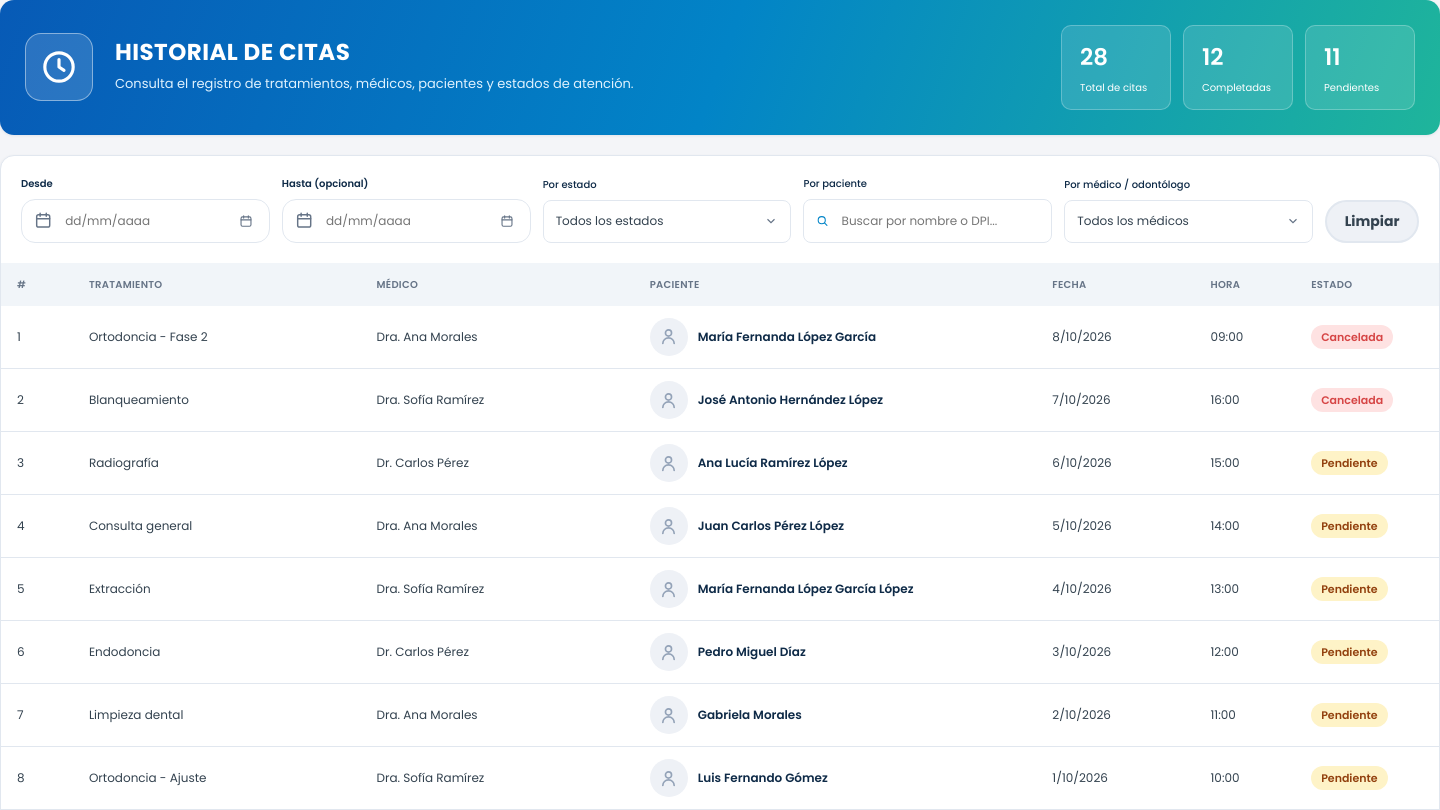
Scenario: agrega separadores al escribir o pegar en Hasta (opcional) sin cambiar el diseño
This screenshot has width=1440, height=810.
Type "31082026" into the field labelled "Hasta (opcional)" at [371, 220], box [326,200,416,242]
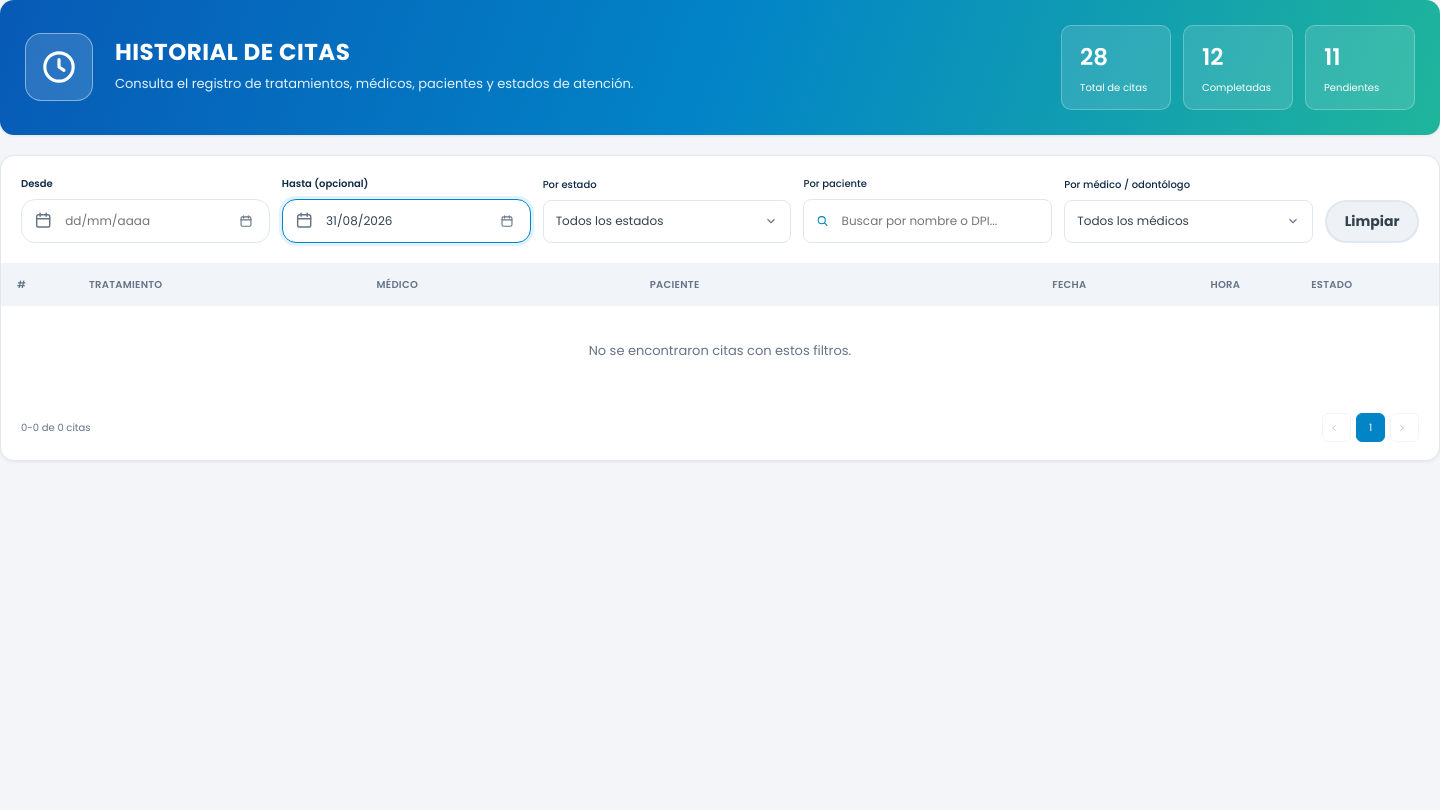
Expected: the field labelled "Hasta (opcional)" holds "31/08/2026", [326,200,416,242]
Press Backspace
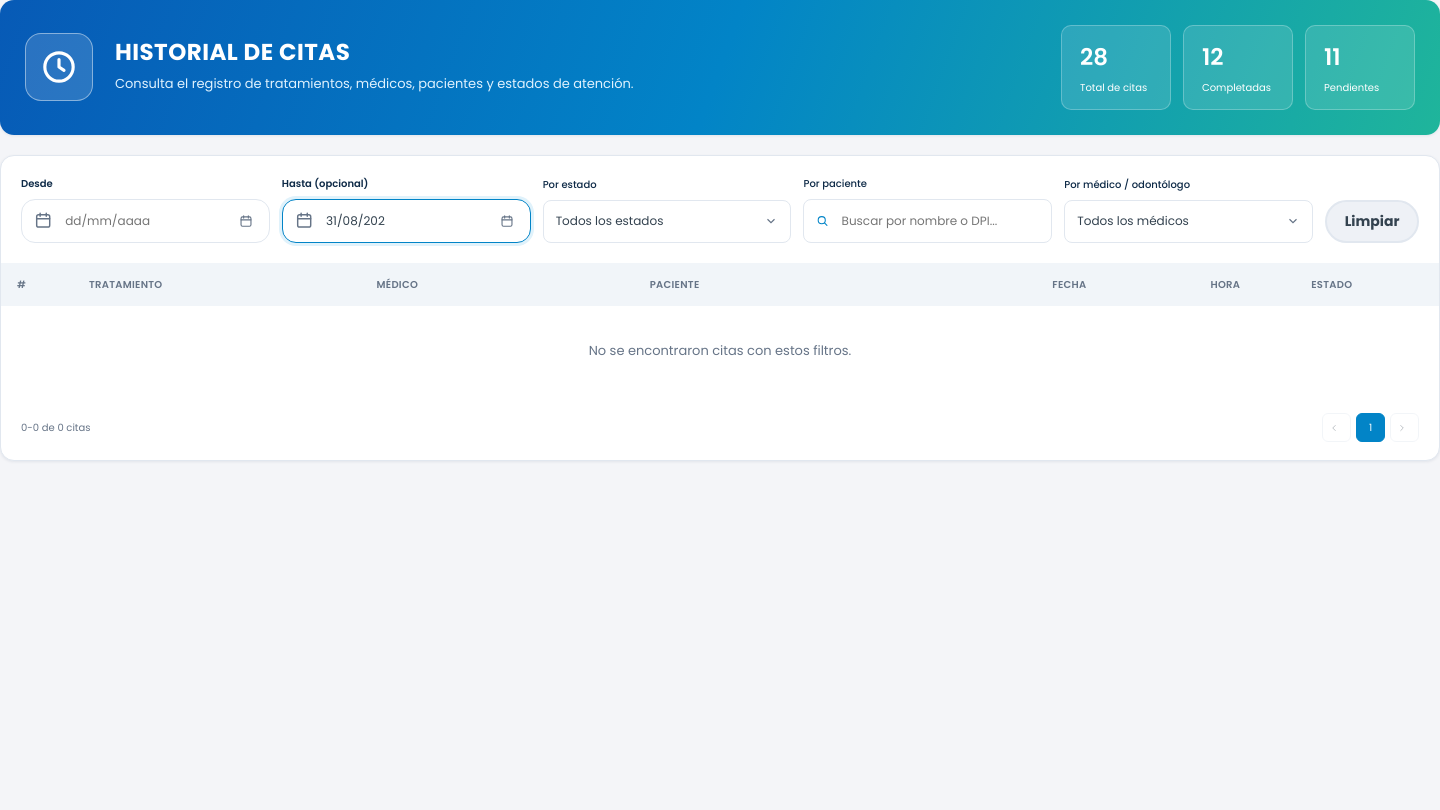
Expected: the field labelled "Hasta (opcional)" holds "31/08/202", [326,200,416,242]
Type keys "6"
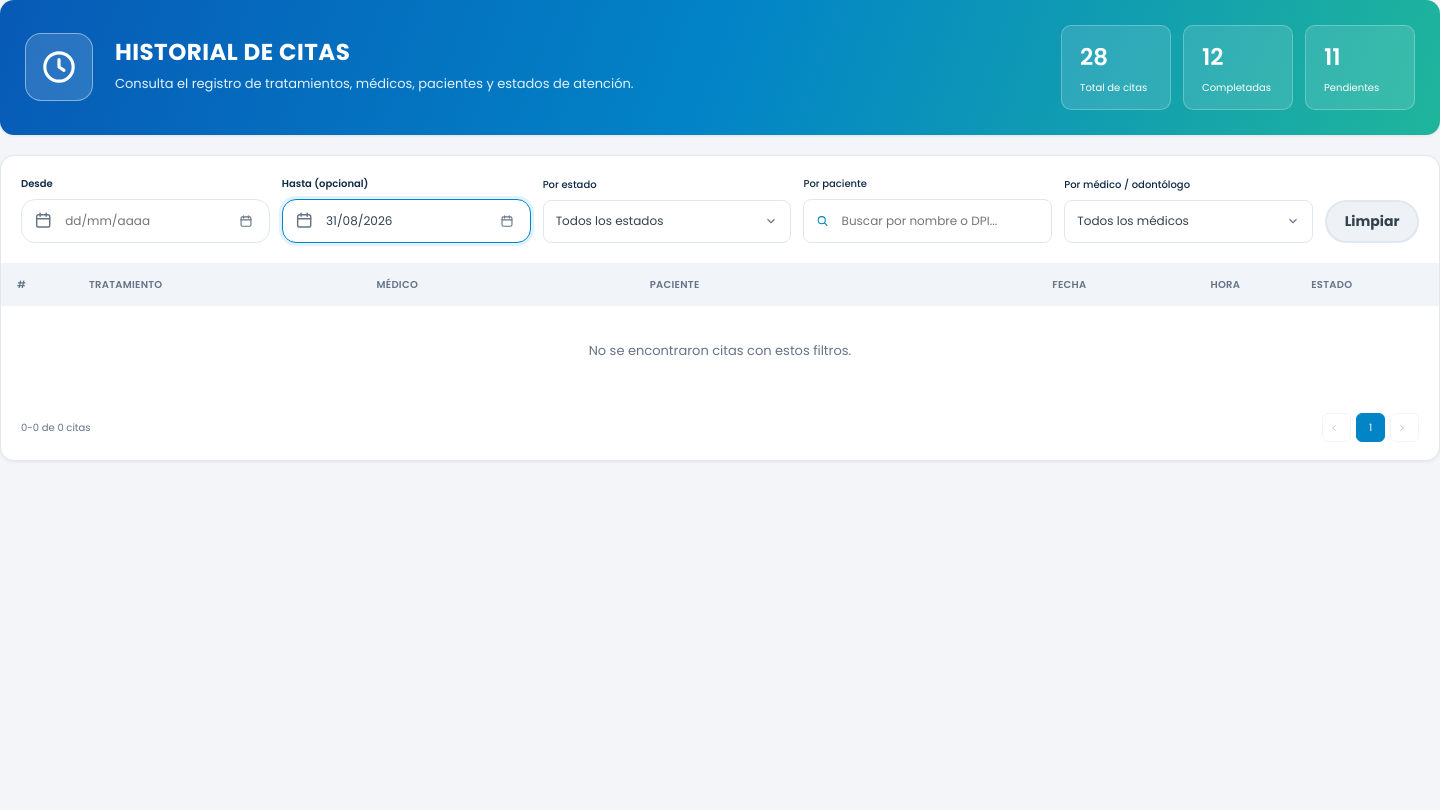
Expected: the field labelled "Hasta (opcional)" holds "31/08/2026"
Clear the field labelled "Hasta (opcional)" at [371, 220], box [326,200,416,242]
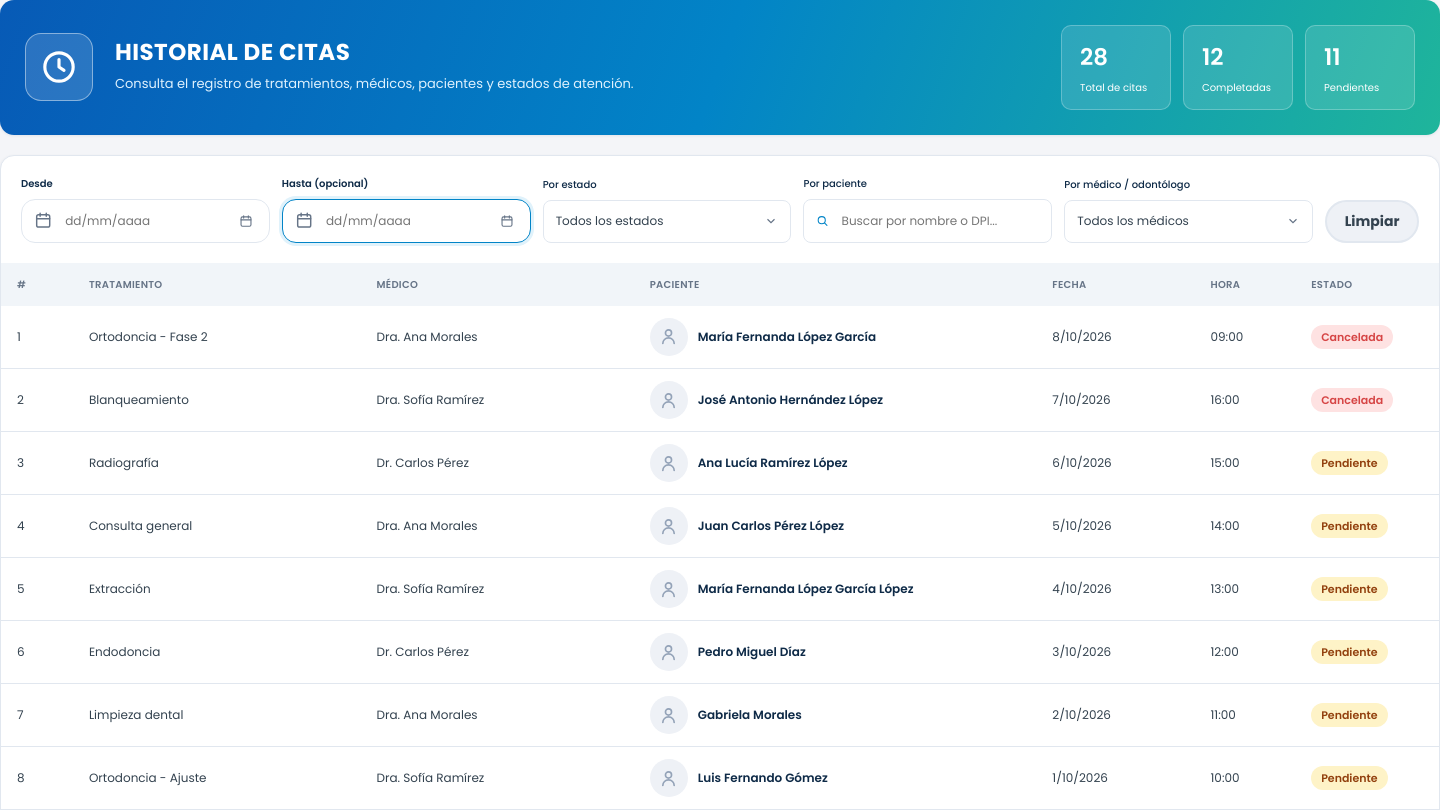
Type keys "12082026"
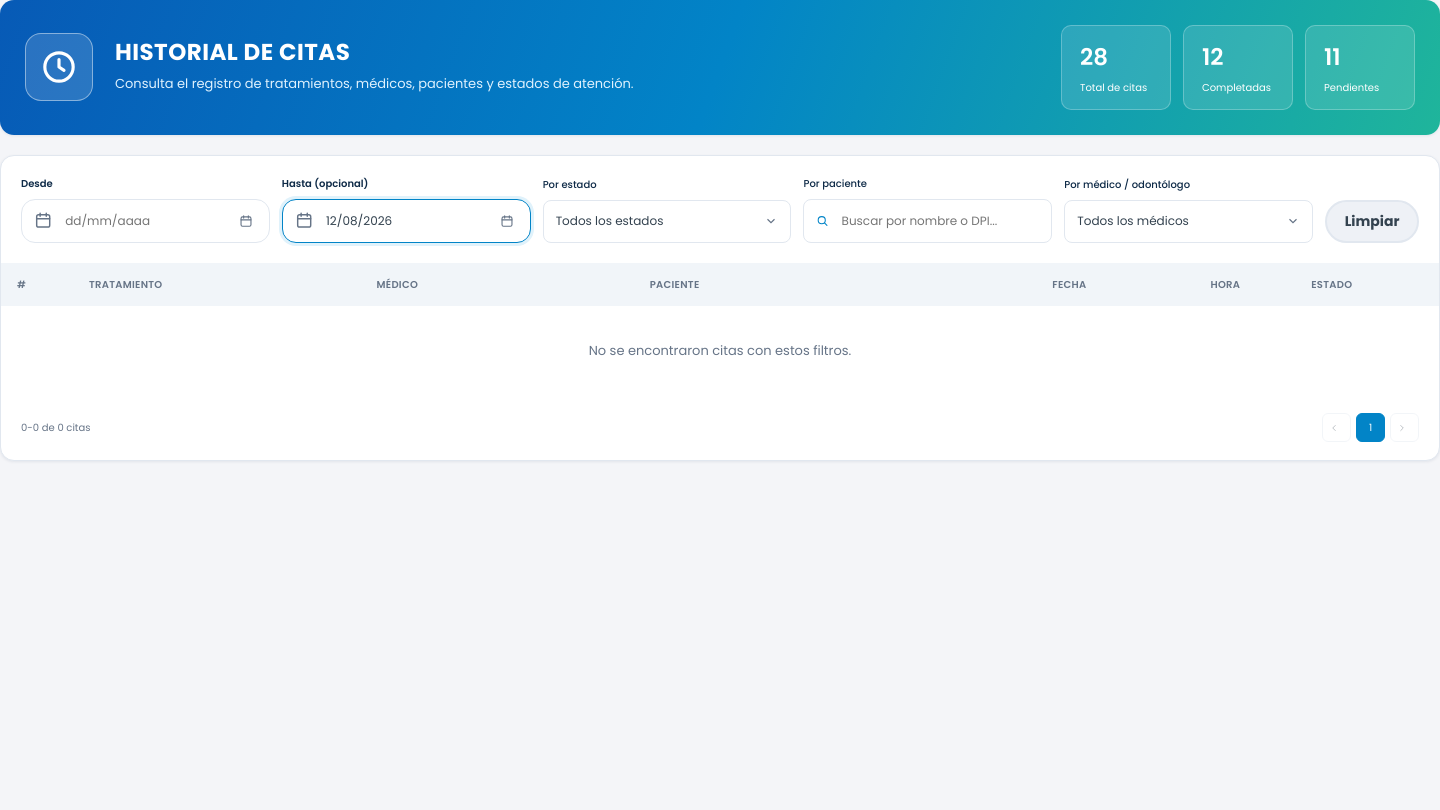
Expected: the field labelled "Hasta (opcional)" holds "12/08/2026"
Replace the text in the field labelled "Hasta (opcional)" with "1545444654" at [371, 220], box [326,200,416,242]
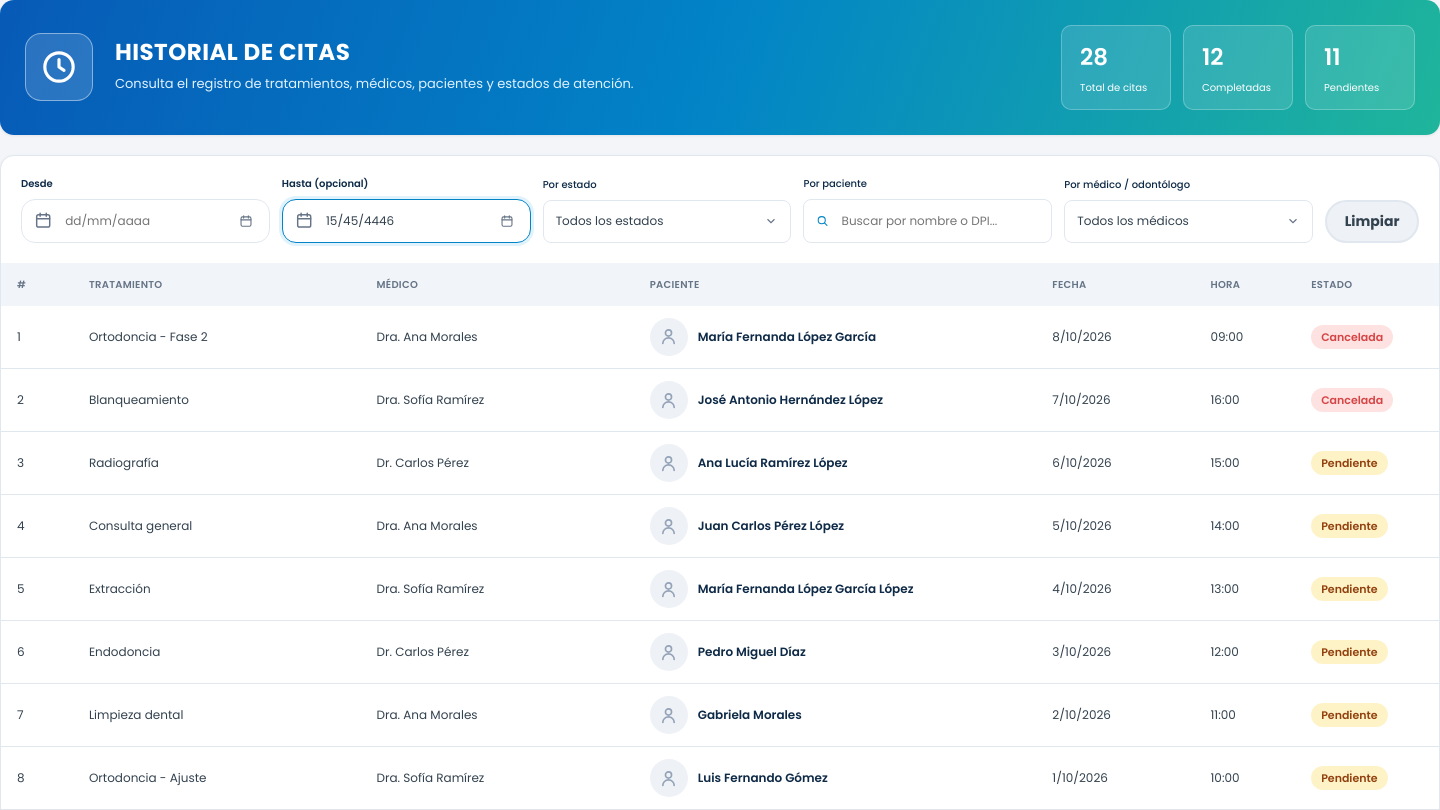
Expected: the field labelled "Hasta (opcional)" holds "15/45/4446", [326,200,416,242]
